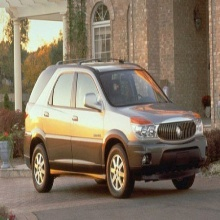no damage: (23, 62, 209, 202)
